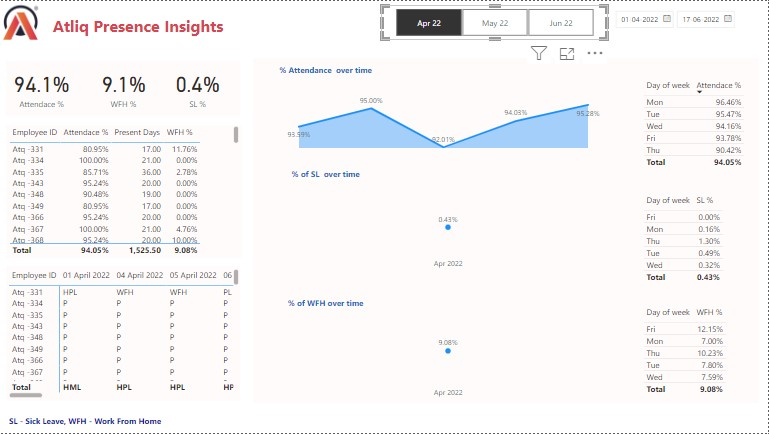

This screenshot's page, from the dashboard's own definition file:
{"tool":"powerbi","page":{"name":"Presence Insights","canvas":[1280,720],"ordinal":0},"visuals":[{"type":"card","fields":{"Values":["Measure Table.Attendace %"]},"box":[8.3,95,121.7,96.7],"z":0},{"type":"image","box":[0,0,70,71],"z":1000},{"type":"textbox","box":[70.3,0,320.1,71.1],"z":2000},{"type":"card","fields":{"Values":["Measure Table.WFH %"]},"box":[145,95,121.7,96.7],"z":3000},{"type":"card","fields":{"Values":["Measure Table.SL %"]},"box":[268.3,95,121.7,96.7],"z":4000},{"type":"tableEx","fields":{"Values":["Final Data.Employee ID","Measure Table.Attendace %","Measure Table.Present Days","Measure Table.WFH %"]},"box":[10,203.3,393.3,225],"z":5000},{"type":"pivotTable","fields":{"Rows":["Final Data.Employee ID"],"Columns":["Final Data.Date"],"Values":["Min(Final Data.Value)"]},"box":[10,441.7,393.3,225],"z":7000},{"type":"textbox","box":[10,686.7,288.3,28.3],"z":8000},{"type":"areaChart","fields":{"Category":["Final Data.WeekNo","Final Data.Date"],"Y":["Measure Table.Attendace %"]},"box":[445,143.3,588.3,106.7],"z":9000},{"type":"areaChart","fields":{"Category":["Final Data.MMM YY","Final Data.Date"],"Y":["Measure Table.SL %"]},"box":[445,301.7,588.3,153.3],"z":10000},{"type":"areaChart","fields":{"Category":["Final Data.MMM YY","Final Data.Date"],"Y":["Measure Table.WFH %"]},"box":[445,516.7,588.3,153.3],"z":11000},{"type":"textbox","box":[445,101.7,191.7,26.7],"z":12000},{"type":"textbox","box":[445,275,191.7,26.7],"z":13000},{"type":"textbox","box":[445,490,191.7,26.7],"z":14000},{"type":"tableEx","fields":{"Values":["Final Data.Day","Measure Table.Attendace %"]},"box":[1066.7,125,198.3,163.3],"z":15000},{"type":"tableEx","fields":{"Values":["Final Data.Day","Measure Table.SL %"]},"box":[1066.7,316.7,198.3,163.3],"z":16000},{"type":"tableEx","fields":{"Values":["Final Data.Day","Measure Table.WFH %"]},"box":[1066.7,503.3,198.3,163.3],"z":17000},{"type":"slicer","fields":{"Values":["Final Data.Date"]},"box":[1013.3,6.7,251.7,46.7],"z":18000},{"type":"slicer","fields":{"Values":["Final Data.MMM YY"]},"box":[635,6.7,378.3,58.3],"z":19000},{"type":"textbox","box":[10,100,390,91.7],"z":20000},{"type":"textbox","box":[10,206.7,393.3,221.7],"z":21000},{"type":"textbox","box":[421.7,95,843.3,575],"z":21500},{"type":"textbox","box":[10,441.7,390,225],"z":22000}]}

Visuals, with their boxes in screenshot pixels (x1, y1, x2, y2), scaled from the page's 1280x720 canvas onto the 769x434 screenshot:
card - Measure Table.Attendace %: (5,57,78,116)
image: (0,0,42,43)
textbox: (42,0,235,43)
card - Measure Table.WFH %: (87,57,160,116)
card - Measure Table.SL %: (161,57,234,116)
tableEx - Final Data.Employee ID x Measure Table.Attendace %: (6,123,242,258)
pivotTable - Final Data.Employee ID x Final Data.Date: (6,266,242,402)
textbox: (6,414,179,431)
areaChart - Final Data.WeekNo x Final Data.Date: (267,86,621,151)
areaChart - Final Data.MMM YY x Final Data.Date: (267,182,621,274)
areaChart - Final Data.MMM YY x Final Data.Date: (267,311,621,404)
textbox: (267,61,383,77)
textbox: (267,166,383,182)
textbox: (267,295,383,311)
tableEx - Final Data.Day x Measure Table.Attendace %: (641,75,760,174)
tableEx - Final Data.Day x Measure Table.SL %: (641,191,760,289)
tableEx - Final Data.Day x Measure Table.WFH %: (641,303,760,402)
slicer - Final Data.Date: (609,4,760,32)
slicer - Final Data.MMM YY: (381,4,609,39)
textbox: (6,60,240,116)
textbox: (6,125,242,258)
textbox: (253,57,760,404)
textbox: (6,266,240,402)
